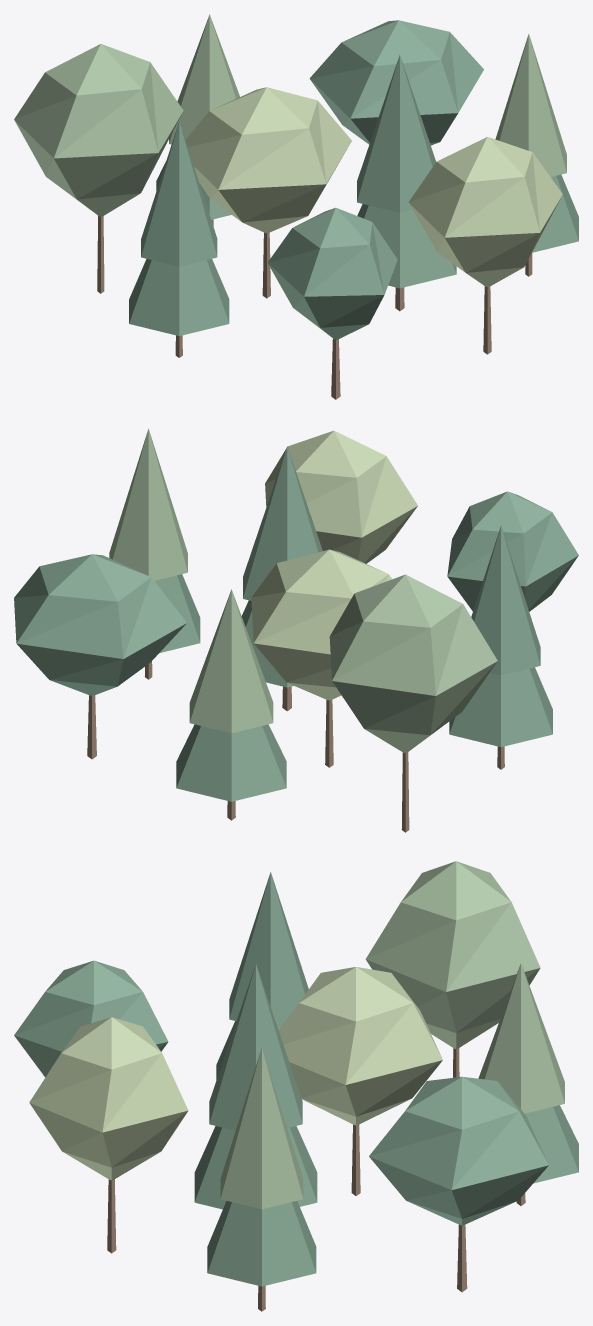
Rendered from forest-grove-open-mixed.glb.
3 renders of one model, top to bottom at view 1: azimuth 30°, elevation 25°; view 2: azimuth 150°, elevation 25°; view 3: azimuth 270°, elevation 25°, orthographic. The views are drawn at different scales.
Visible parts, largest first — view 1: forest-grove-open-mixed; view 2: forest-grove-open-mixed; view 3: forest-grove-open-mixed.
Part boxes in pixels (x1,y1,x2,y2): forest-grove-open-mixed: (14, 14, 578, 399); forest-grove-open-mixed: (14, 428, 578, 832); forest-grove-open-mixed: (14, 861, 578, 1311).
Bounding box in the file's own units: 21.39 × 11.4 × 21.11.
